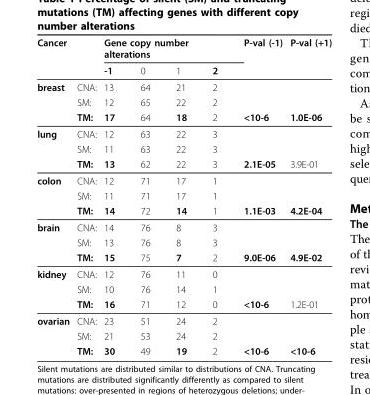table: (36, 36, 331, 356)
table column: (230, 36, 285, 356), (285, 36, 331, 356), (36, 36, 72, 356), (126, 36, 162, 356), (162, 36, 198, 356), (198, 36, 230, 356), (72, 36, 99, 356), (99, 36, 126, 356)
table column header: (36, 36, 331, 78)
table row: (36, 36, 331, 61), (36, 61, 331, 78), (36, 78, 331, 94), (36, 109, 331, 125), (36, 125, 331, 141), (36, 171, 331, 187), (36, 202, 331, 218), (36, 218, 331, 234), (36, 249, 331, 265), (36, 265, 331, 281), (36, 296, 331, 312), (36, 312, 331, 328), (36, 94, 331, 109), (36, 141, 331, 156), (36, 156, 331, 171), (36, 187, 331, 202), (36, 234, 331, 249), (36, 281, 331, 296), (36, 328, 331, 343), (36, 343, 331, 356)
table spanning cell: (99, 36, 230, 61), (230, 36, 285, 78), (285, 36, 331, 78), (36, 78, 72, 125), (36, 171, 72, 218), (36, 218, 72, 265), (36, 265, 72, 312), (36, 125, 72, 171), (36, 312, 72, 356), (36, 36, 72, 78)
